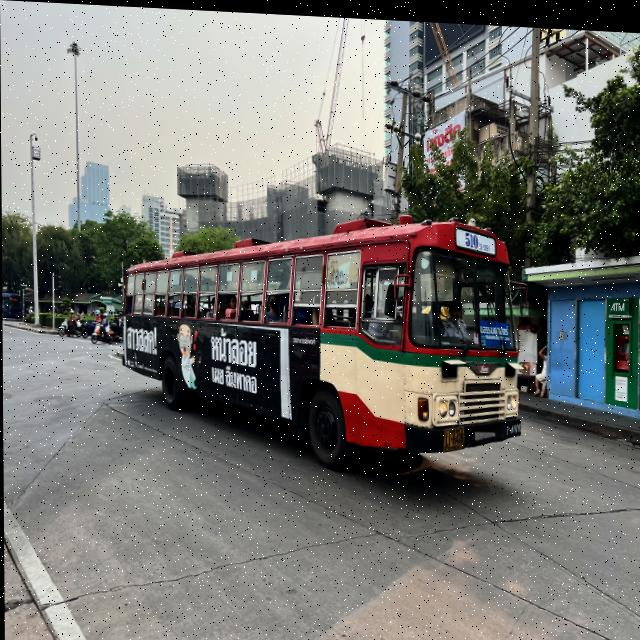BMTA-bus: (121, 215, 521, 469)
Bus Line Number: (463, 225, 490, 248)
Bus Side Number: (504, 416, 521, 430)
Destination Sign: (479, 315, 510, 341)
